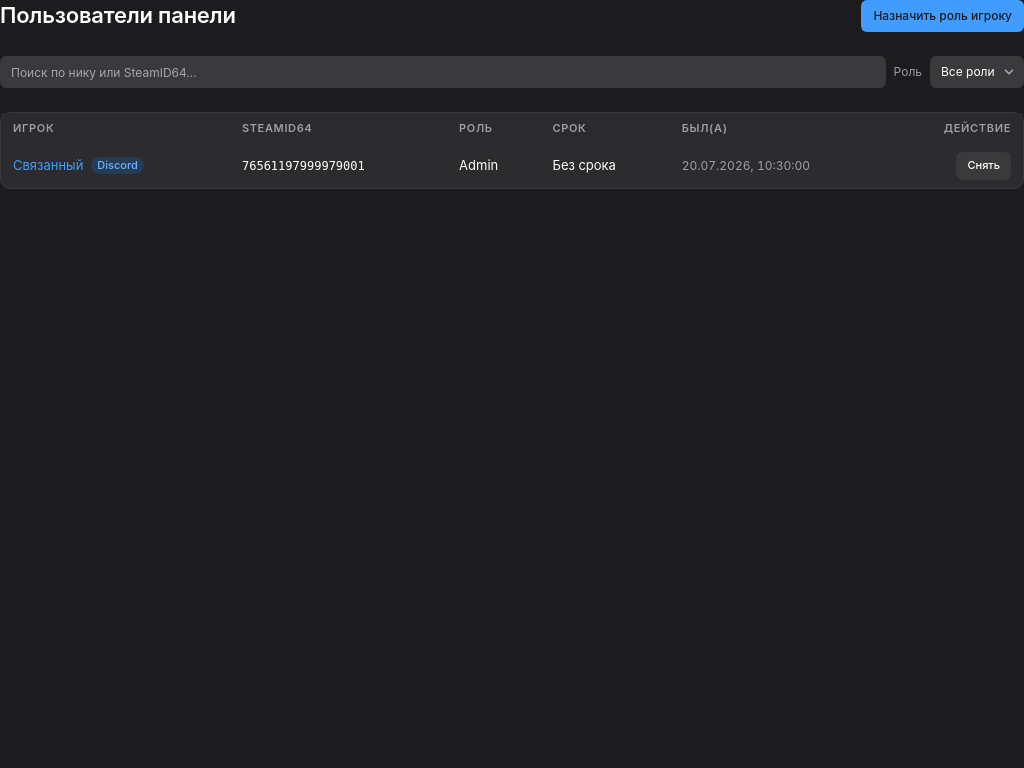
UsersBrowser role removal › explains the last-owner refusal instead of leaving the row unchanged
Step 1. Click the button "Снять" → (984, 166), box [956,152,1011,180]
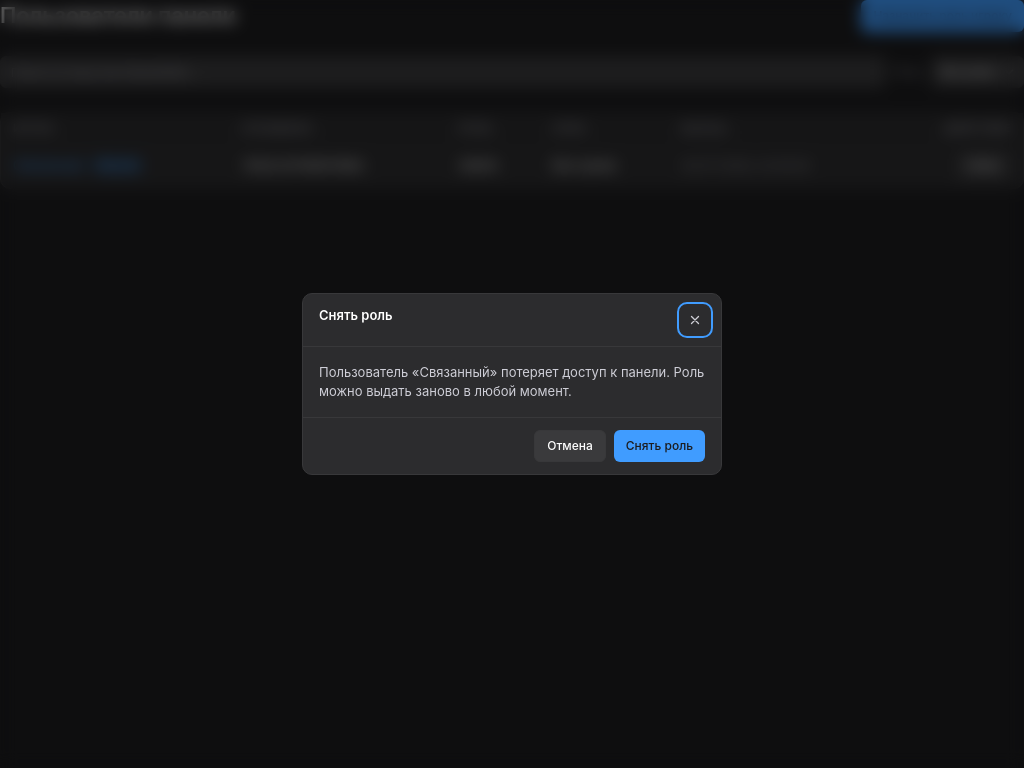
Step 2. Click the button "Снять роль" → (659, 446), box [614,430,705,462]
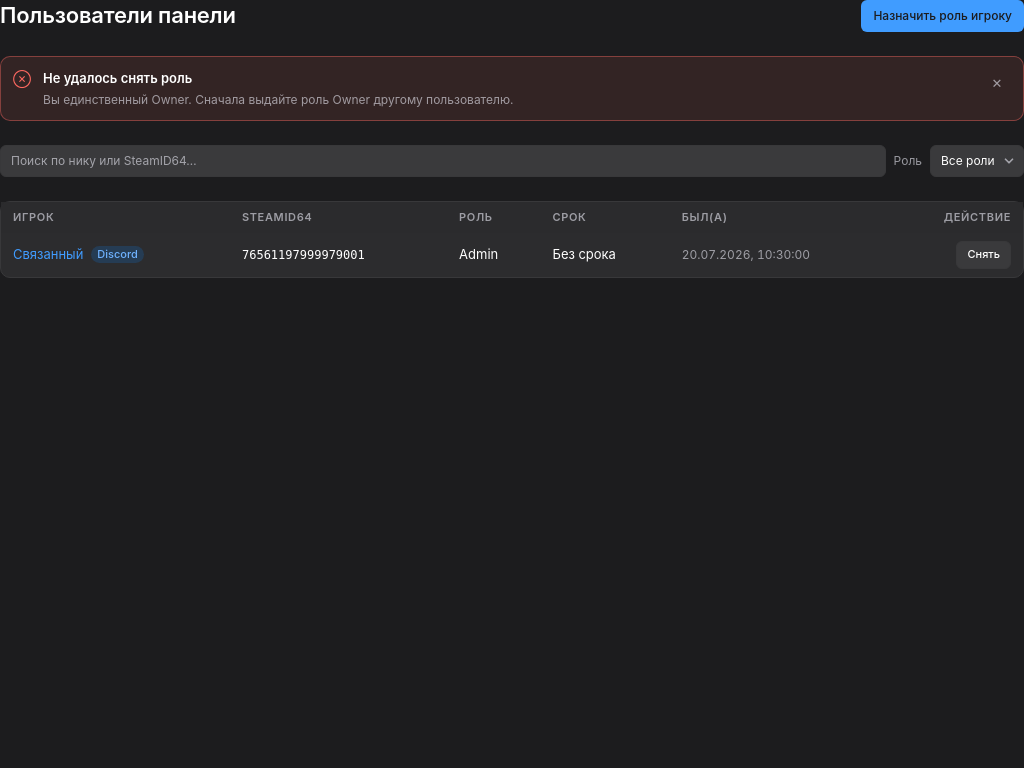
Result: the text "Вы единственный Owner. Сначала выдайте роль Owner другому пользователю." is shown at [43,92,514,107]
